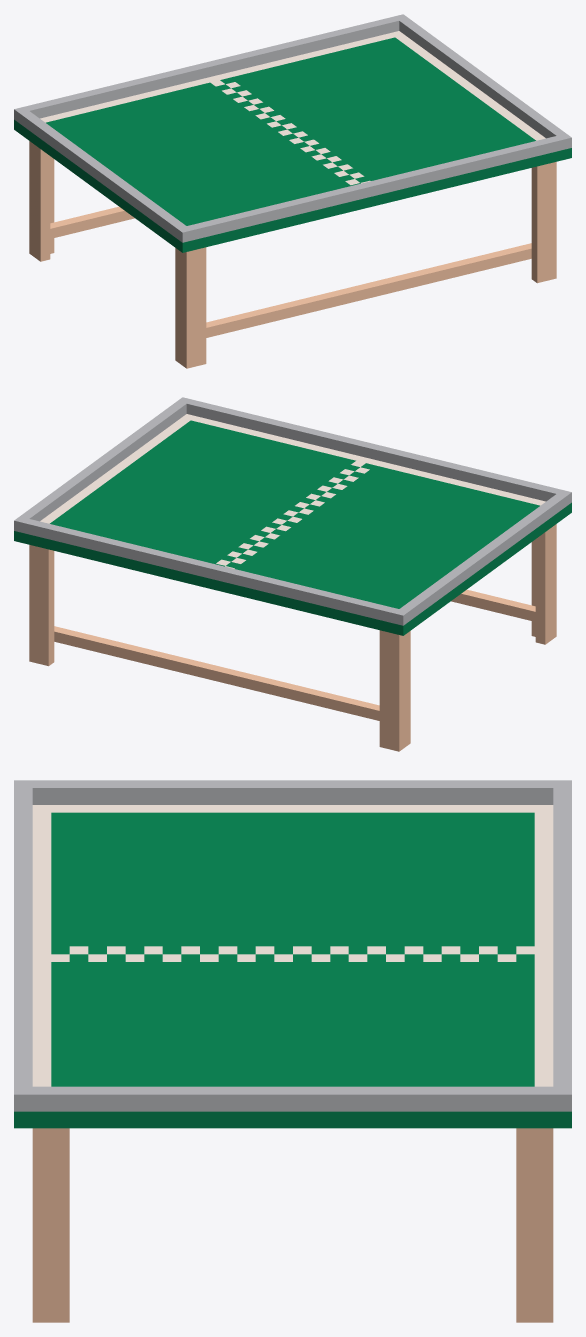
Rendered from PongAssets-0.obj.
The picture shows the model from 3 angles, top to bottom: view 1: azimuth 30°, elevation 25°; view 2: azimuth 150°, elevation 25°; view 3: azimuth 270°, elevation 25°; orthographic projection. The views are drawn at different scales.
Parts seen in each view (by area): view 1: PongAssets-0; view 2: PongAssets-0; view 3: PongAssets-0.
Part boxes in pixels (x1,y1,x2,y2): PongAssets-0: (14,14,571,368); PongAssets-0: (14,397,571,751); PongAssets-0: (14,780,571,1322).
Bounding box in the file's own units: 40 × 14 × 30.
Materials: 1 (1 with a texture image).
